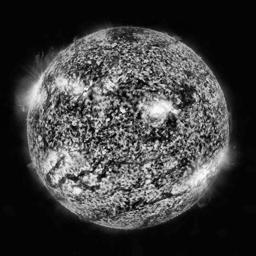solar flares: (142, 96, 175, 123), (192, 165, 208, 185), (56, 77, 68, 92)
sunspots: (176, 87, 192, 108), (150, 128, 170, 144), (84, 64, 102, 81), (117, 28, 137, 42)
